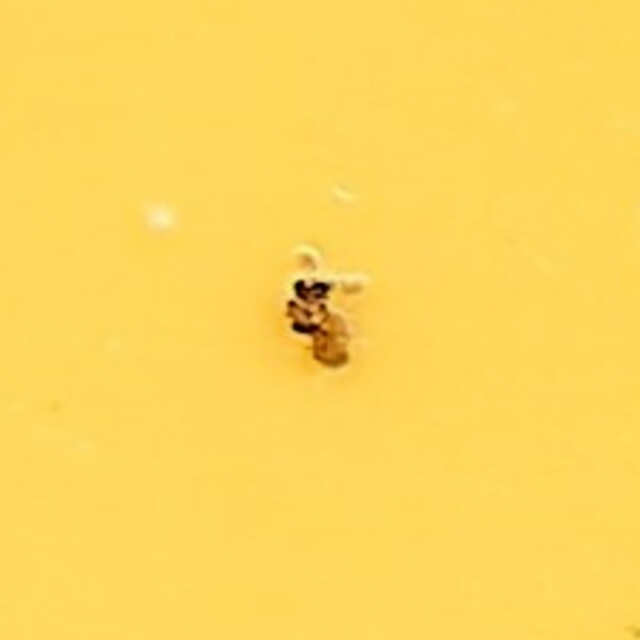Hymenoptera: (284, 267, 356, 373)
